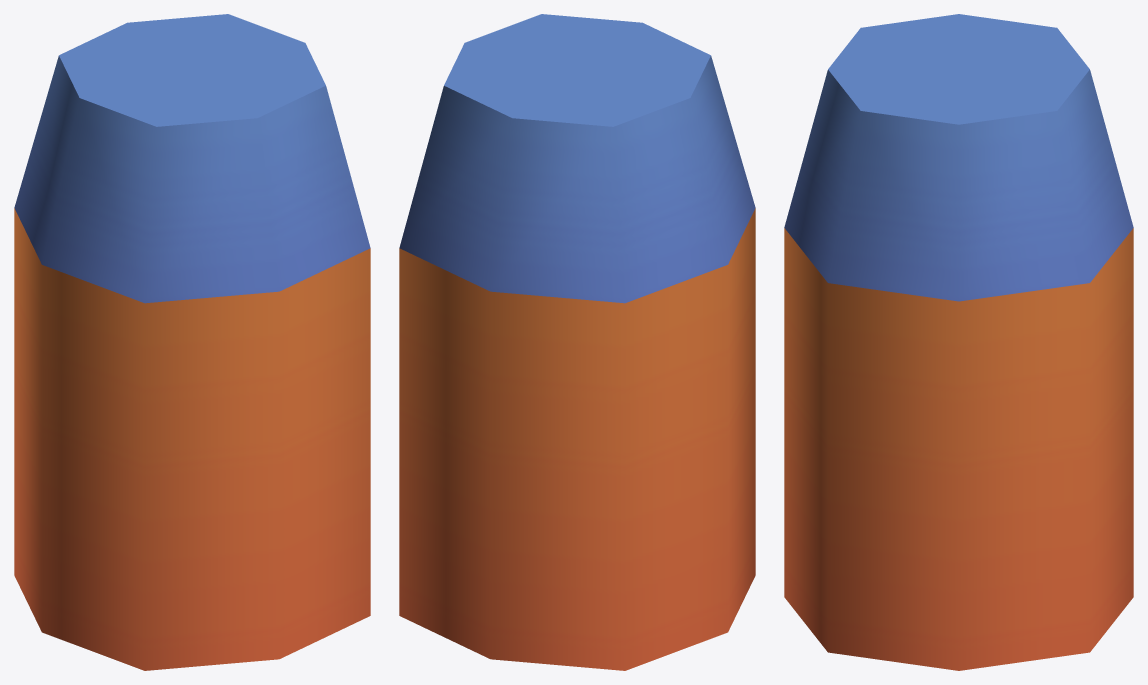
The model's file is bullet-foam-tip-thick.glb.
3 views of the same model, side by side, from view 1: azimuth 30°, elevation 25°; view 2: azimuth 150°, elevation 25°; view 3: azimuth 270°, elevation 25° (orthographic).
Parts seen in each view (by area): view 1: bullet-foam-tip-thick; view 2: bullet-foam-tip-thick; view 3: bullet-foam-tip-thick.
Boxes of the visible parts, x1,y1,x2,y2 form: bullet-foam-tip-thick: [14, 14, 370, 670]; bullet-foam-tip-thick: [399, 14, 755, 670]; bullet-foam-tip-thick: [784, 14, 1133, 670].
Size of the model in its own units: 0.03 by 0.05 by 0.03.
1 material, 1 textured.
